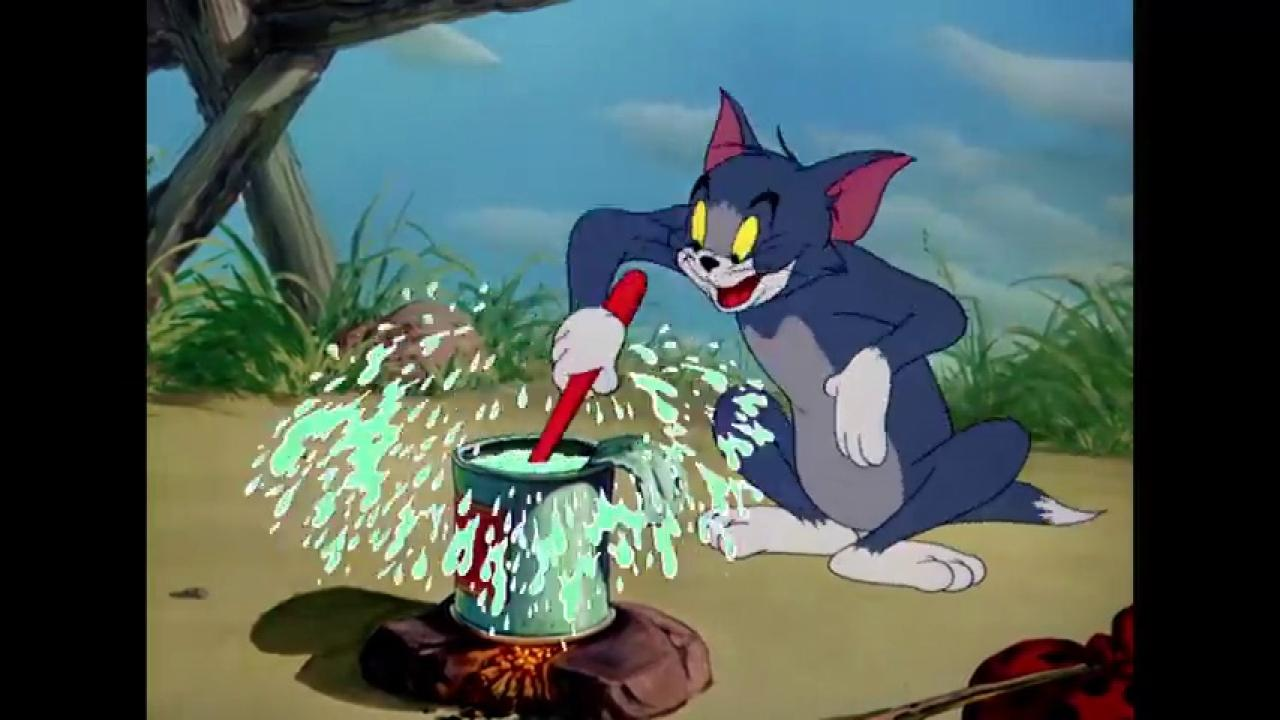Tom: (548, 84, 1110, 594)
